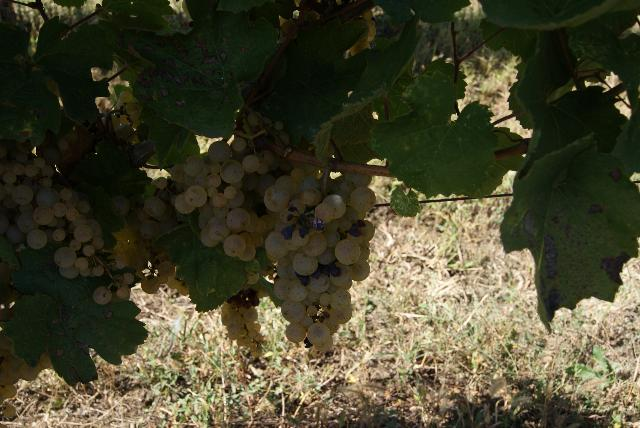grapes: (0, 145, 135, 305), (260, 174, 375, 351), (175, 141, 266, 261)
